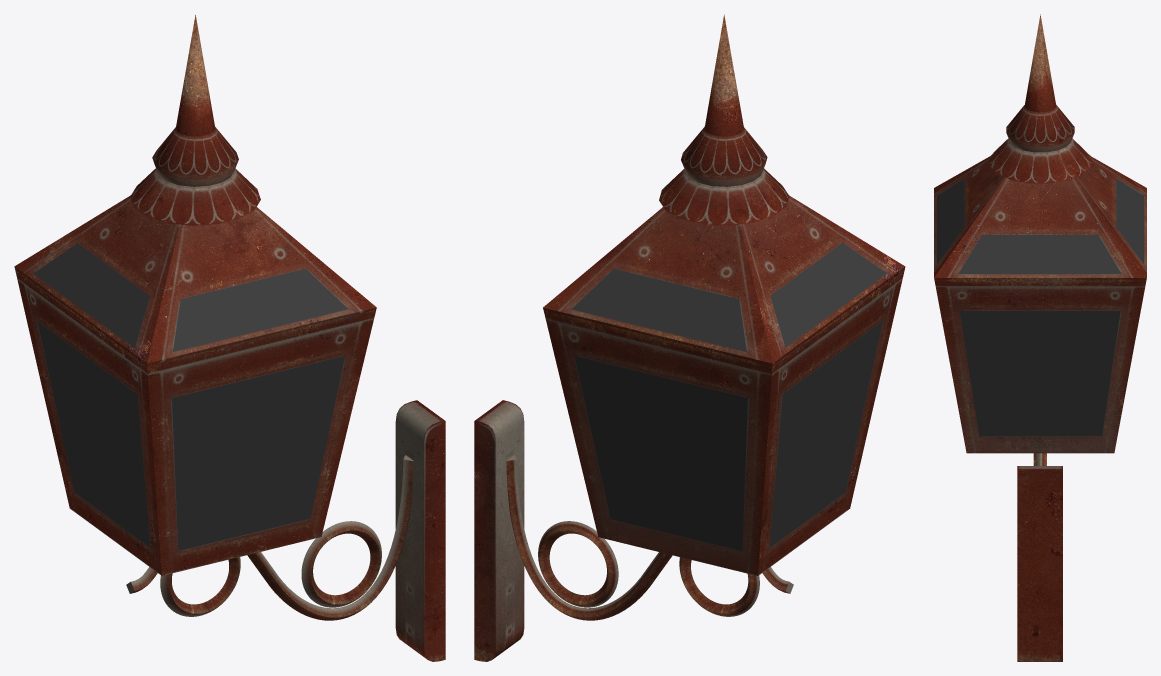
Rendered from SM_Light.FBX.
3 renders of one model, left to right at view 1: azimuth 30°, elevation 25°; view 2: azimuth 150°, elevation 25°; view 3: azimuth 270°, elevation 25°, orthographic. The views are drawn at different scales.
Visible parts, largest first — view 1: SM_Light; view 2: SM_Light; view 3: SM_Light.
Part boxes in pixels (left/top/right/bottom): SM_Light: left=14, top=15, right=445, bottom=661; SM_Light: left=474, top=14, right=905, bottom=661; SM_Light: left=934, top=14, right=1146, bottom=661.
Bounding box in the file's own units: 73.16 × 47.97 × 138.
